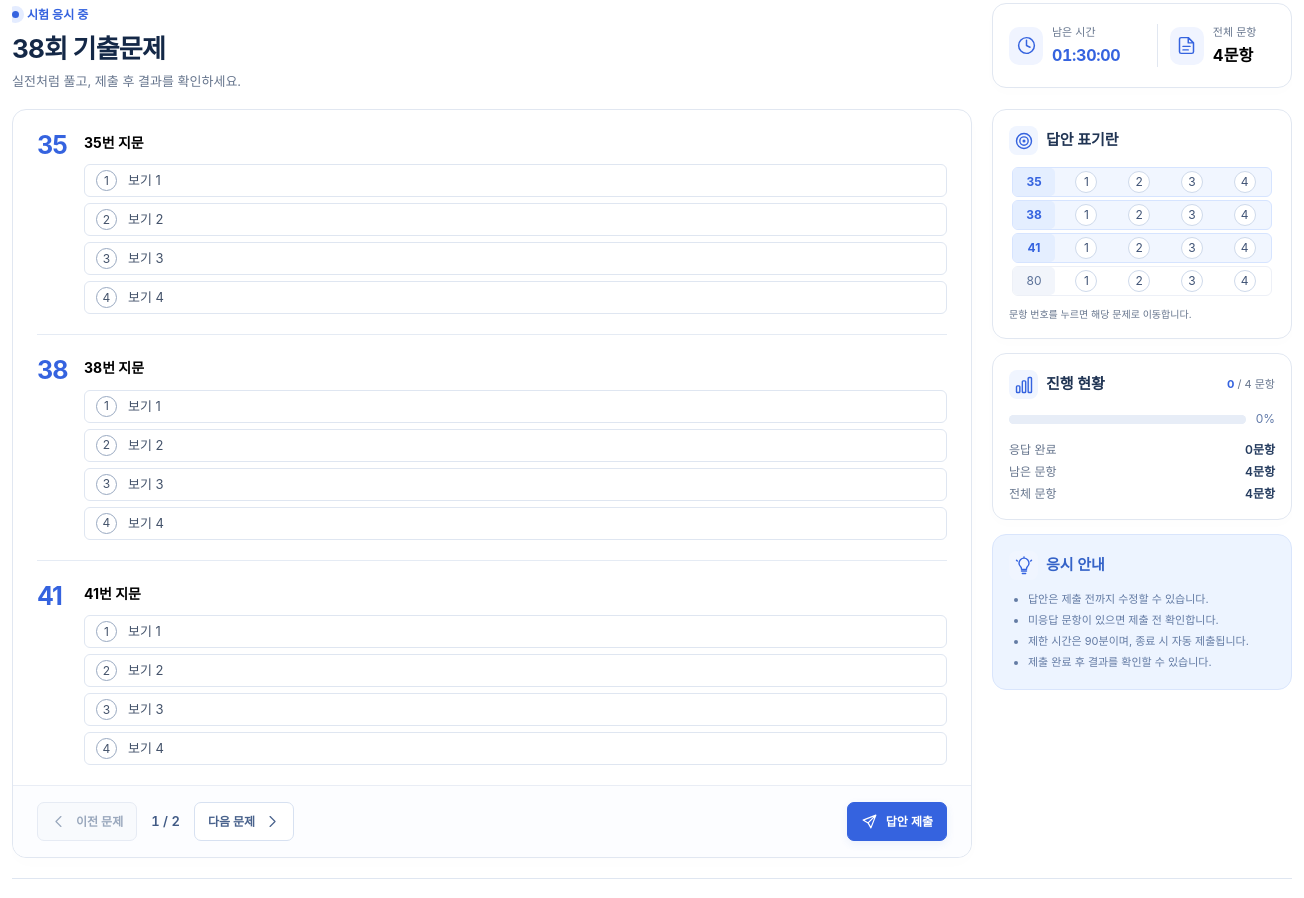
Scenario: 기출문제 시험 화면 페이지 이동 › 관리자 지정 번호로 정렬하고 실제 배열 인덱스로 페이지를 이동한다
Expected: the text "35번 지문" is shown, top-left (84, 134), bottom-right (144, 151)
Expected: the text "38번 지문" is shown, top-left (84, 360), bottom-right (144, 376)
Step 1. Click the button named "80번 문제로 이동" → (1034, 281), box top-left (1013, 267), bottom-right (1055, 295)
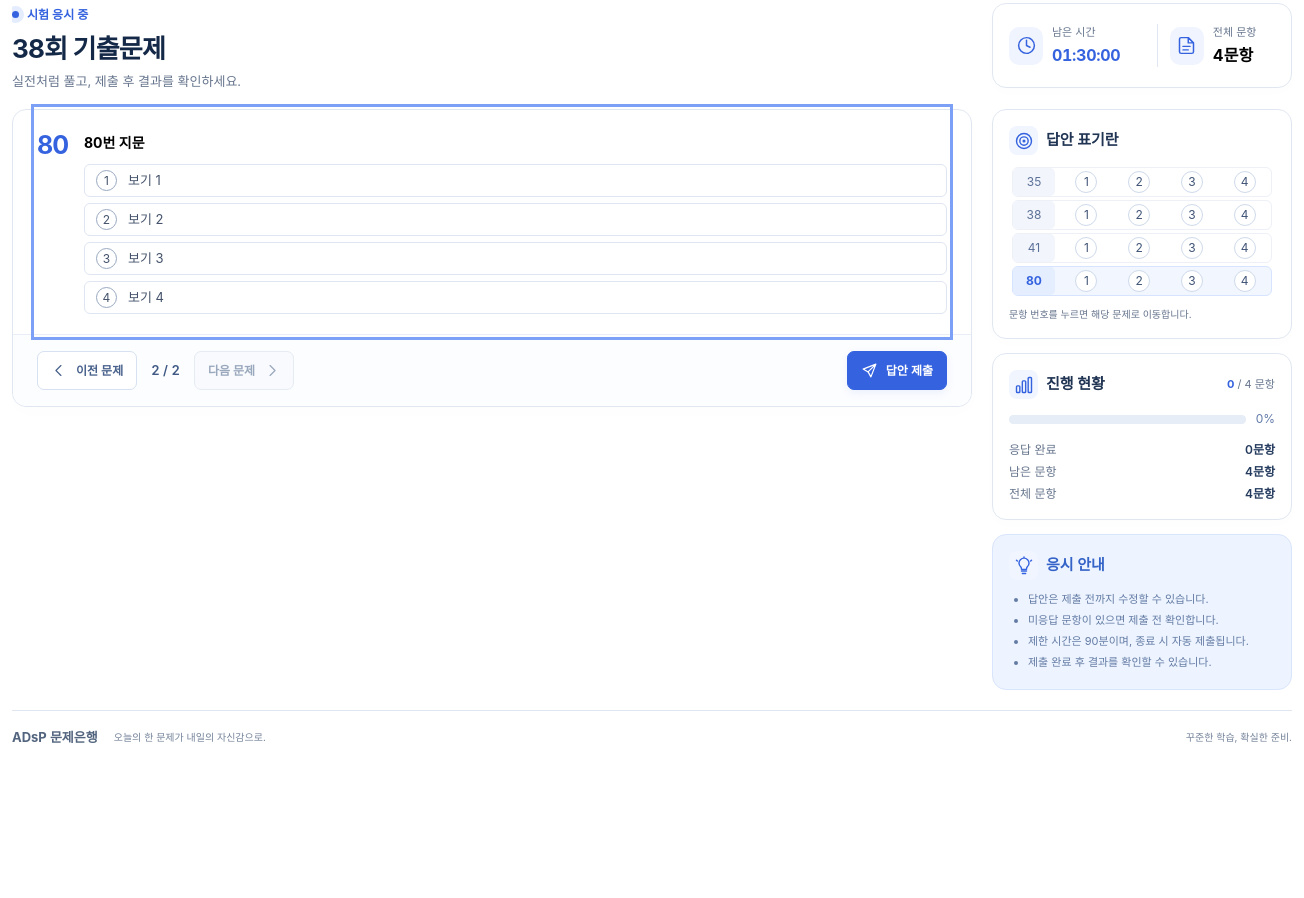
Expected: the text named "2 / 2 페이지" reads "2 / 2", top-left (151, 361), bottom-right (180, 381)
Expected: the text "80번 지문" is shown, top-left (84, 134), bottom-right (144, 151)
Expected: the text "35번 지문" is gone
